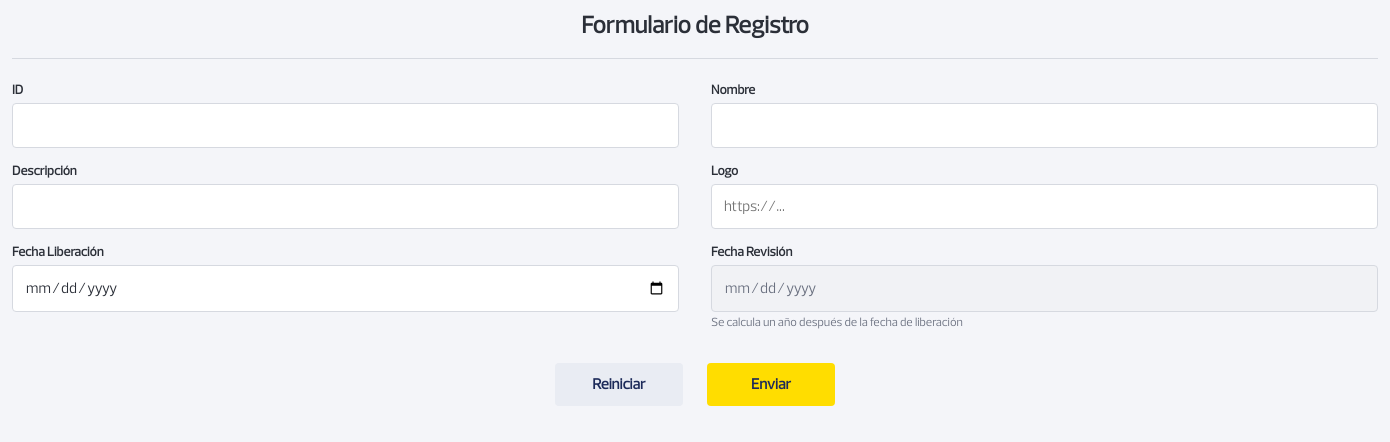
Test: ProductFormComponent › should show an error when id is "abcdefghijk"
The image size is (1390, 442).
Type "abcdefghijk" into the field labelled "ID" at (346, 126), box [12, 103, 679, 148]
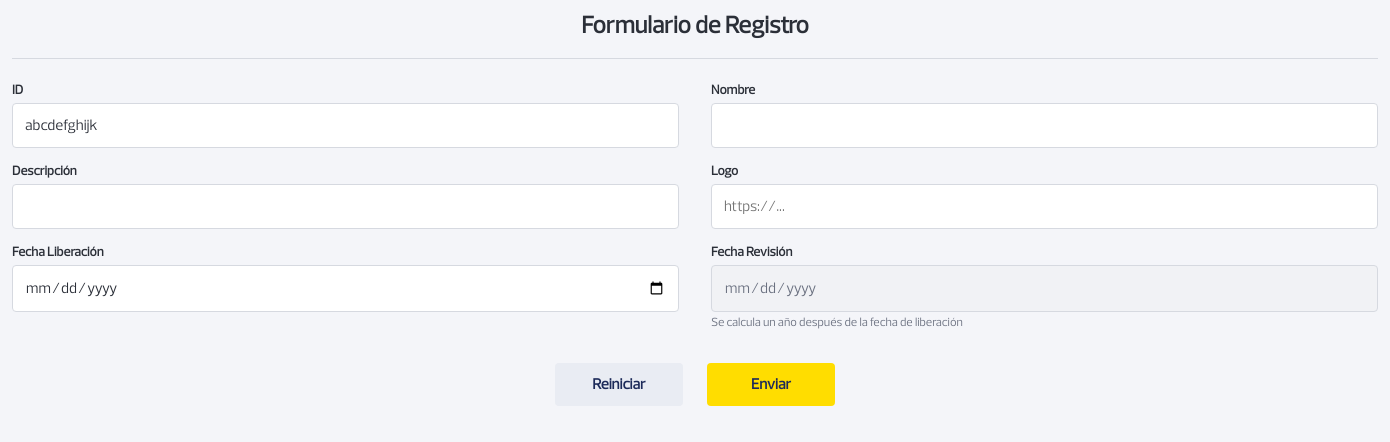
Leave the field labelled "ID", box [12, 103, 679, 148]
Wait 300 ms
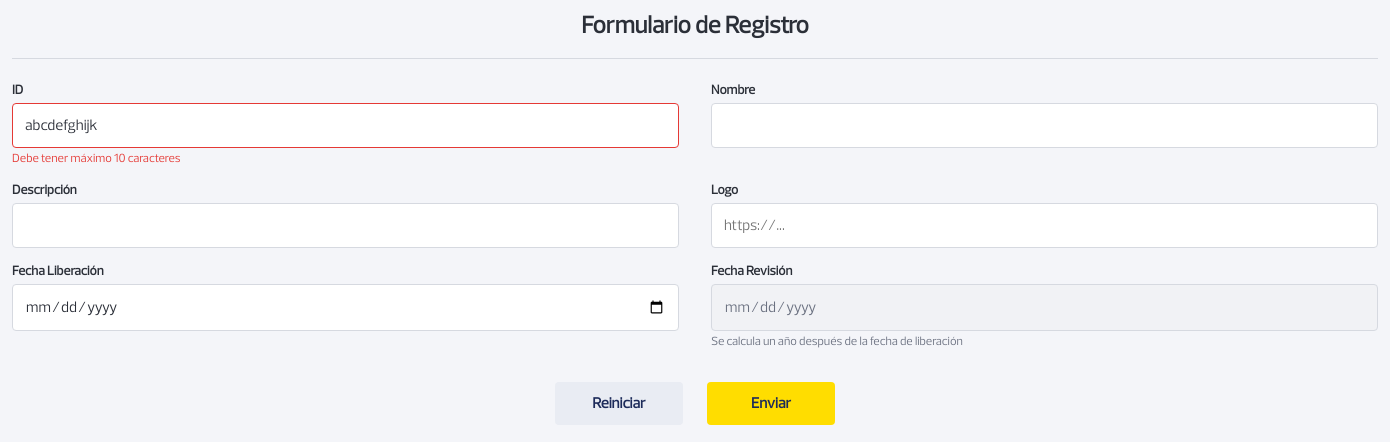
Check: the text "Debe tener máximo 10 caracteres" is shown, box [12, 153, 180, 165]
